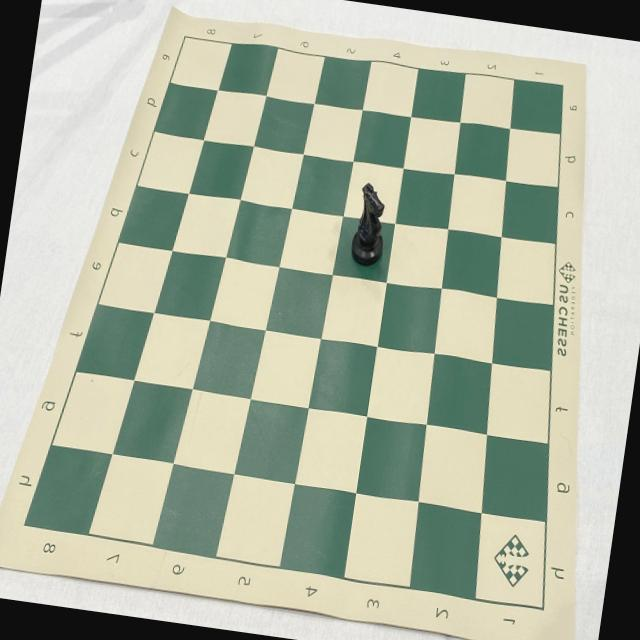black-knight: (348, 182, 392, 270)
